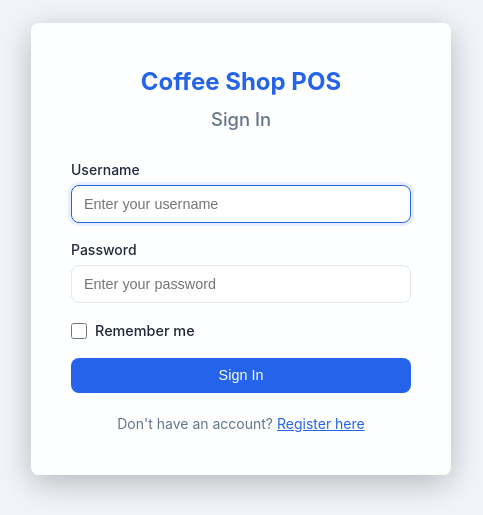
LoginPage › disables submit button while loading
Type "testuser" into the field labelled "Username". click: (241, 204)
box: [71,185,411,223]
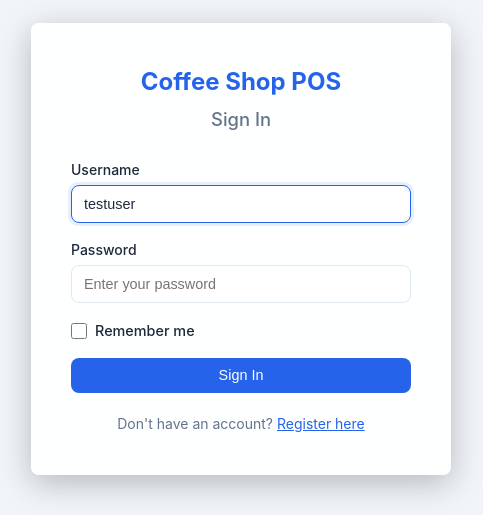
Type "testpass123" into the password field labelled "Password". click: (241, 284)
box: [71,265,411,303]
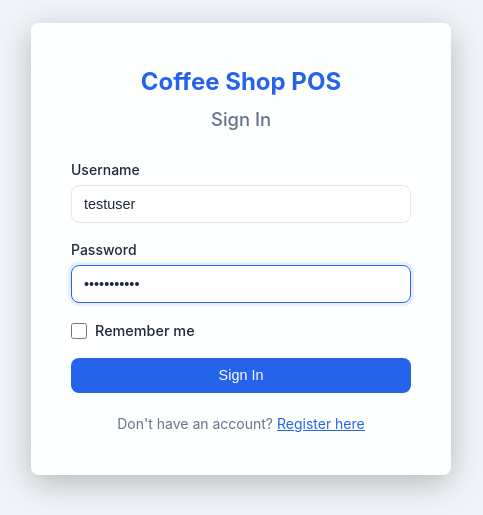
Click the button "Sign In". click: click(241, 376)
box: [71,358,411,393]
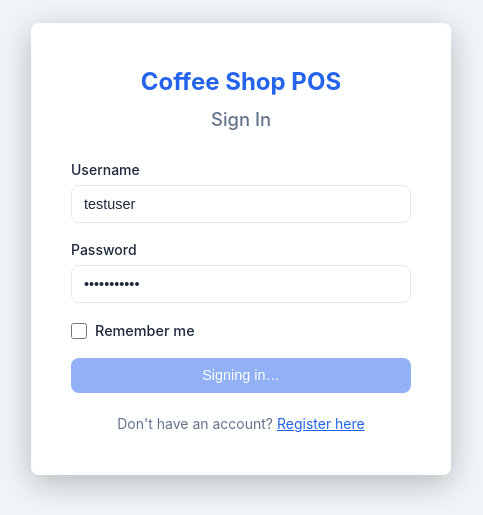
expect the button "Signing in…" is disabled: met, box [71,358,411,393]
